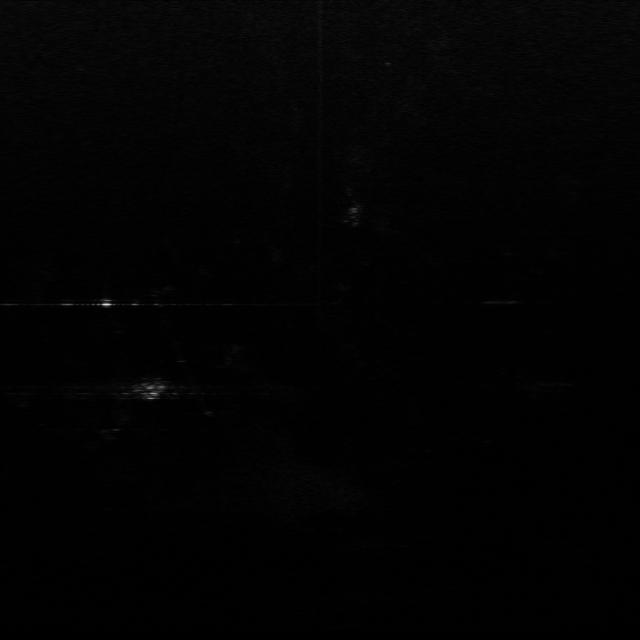rov: (132, 374, 173, 404)
